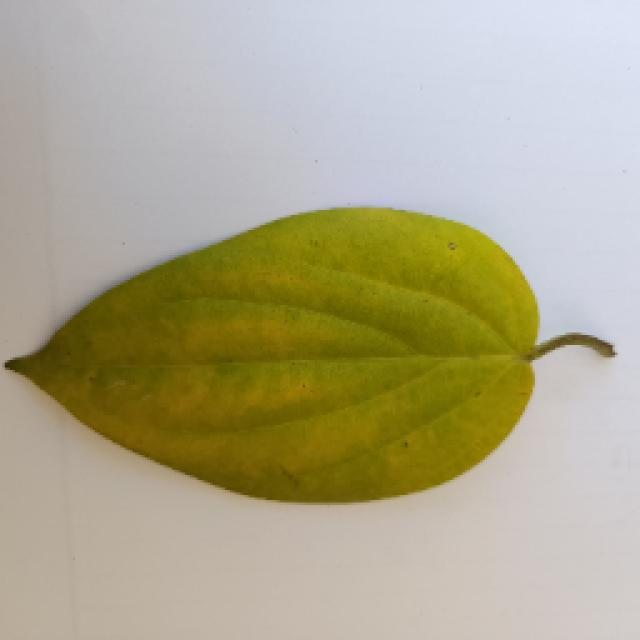slow-decline: (8, 198, 618, 502)
